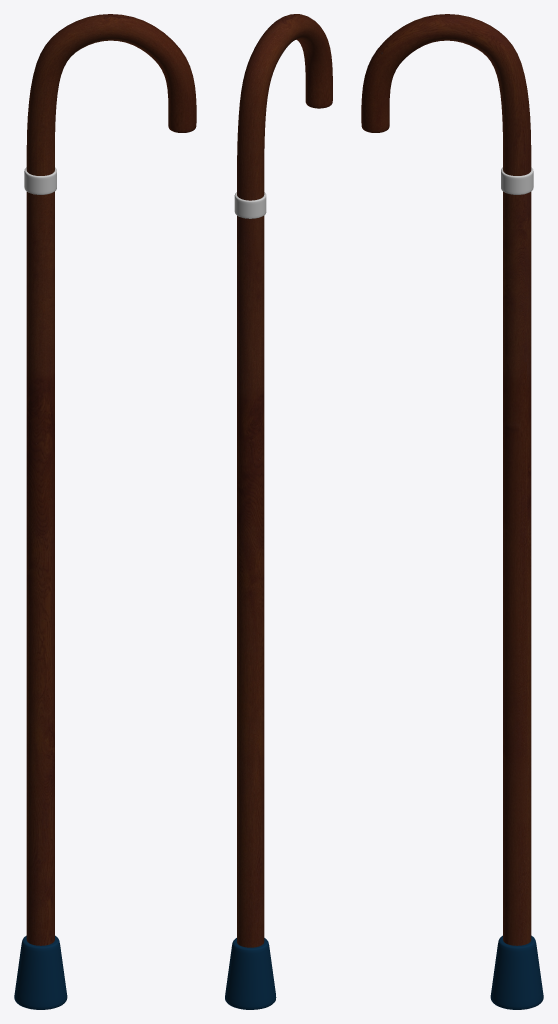
Rendered from cane.fbx.
3 renders of one model, left to right at view 1: azimuth 90°, elevation 25°; view 2: azimuth 150°, elevation 25°; view 3: azimuth 270°, elevation 25°, orthographic. The views are drawn at different scales.
Visible parts, largest first — view 1: pCylinder1, pCylinder2, pCylinder3; view 2: pCylinder1, pCylinder2, pCylinder3; view 3: pCylinder1, pCylinder2, pCylinder3.
Part boxes in pixels (left/top/right/bottom): pCylinder1: left=26, top=14, right=196, bottom=945; pCylinder2: left=14, top=935, right=67, bottom=1009; pCylinder3: left=24, top=167, right=56, bottom=194; pCylinder1: left=237, top=14, right=332, bottom=947; pCylinder2: left=225, top=938, right=276, bottom=1009; pCylinder3: left=234, top=192, right=266, bottom=218; pCylinder1: left=361, top=14, right=531, bottom=945; pCylinder2: left=490, top=935, right=543, bottom=1009; pCylinder3: left=501, top=167, right=533, bottom=194.
Size of the model in its own units: 0.6019 by 12.36 by 2.07.
